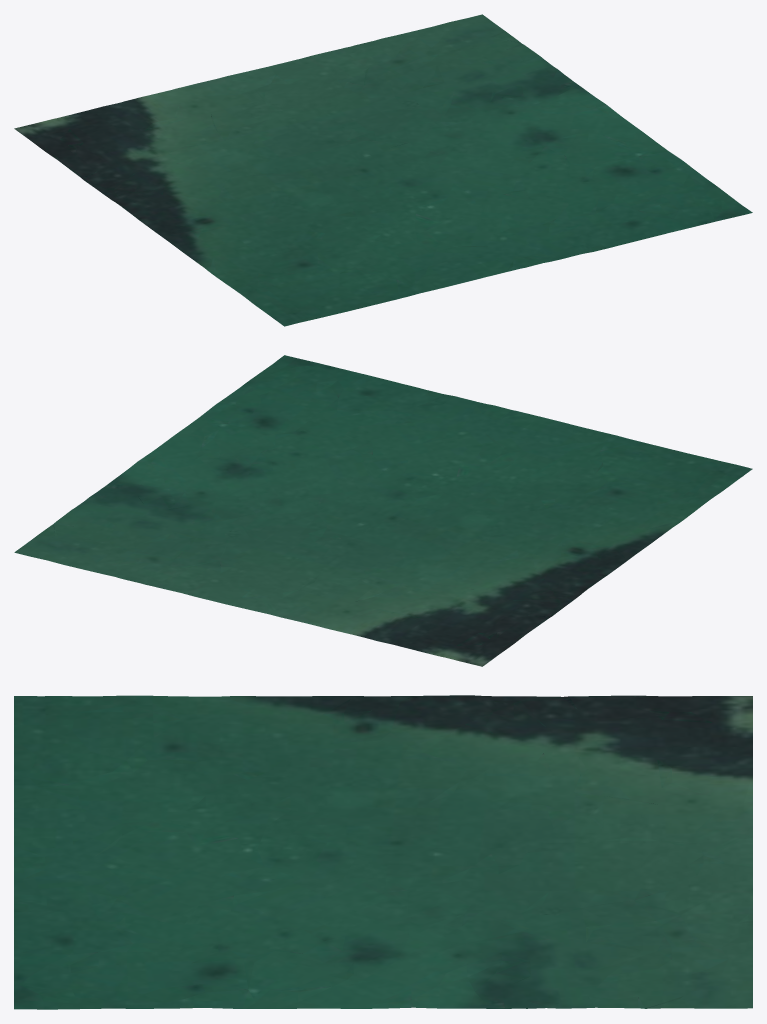
3 renders of one model, top to bottom at view 1: azimuth 30°, elevation 25°; view 2: azimuth 150°, elevation 25°; view 3: azimuth 270°, elevation 25°, orthographic. The views are drawn at different scales.
Bounding box in the file's own units: 104 × 0.3815 × 104.
Materials: 3 (3 with a texture image).
